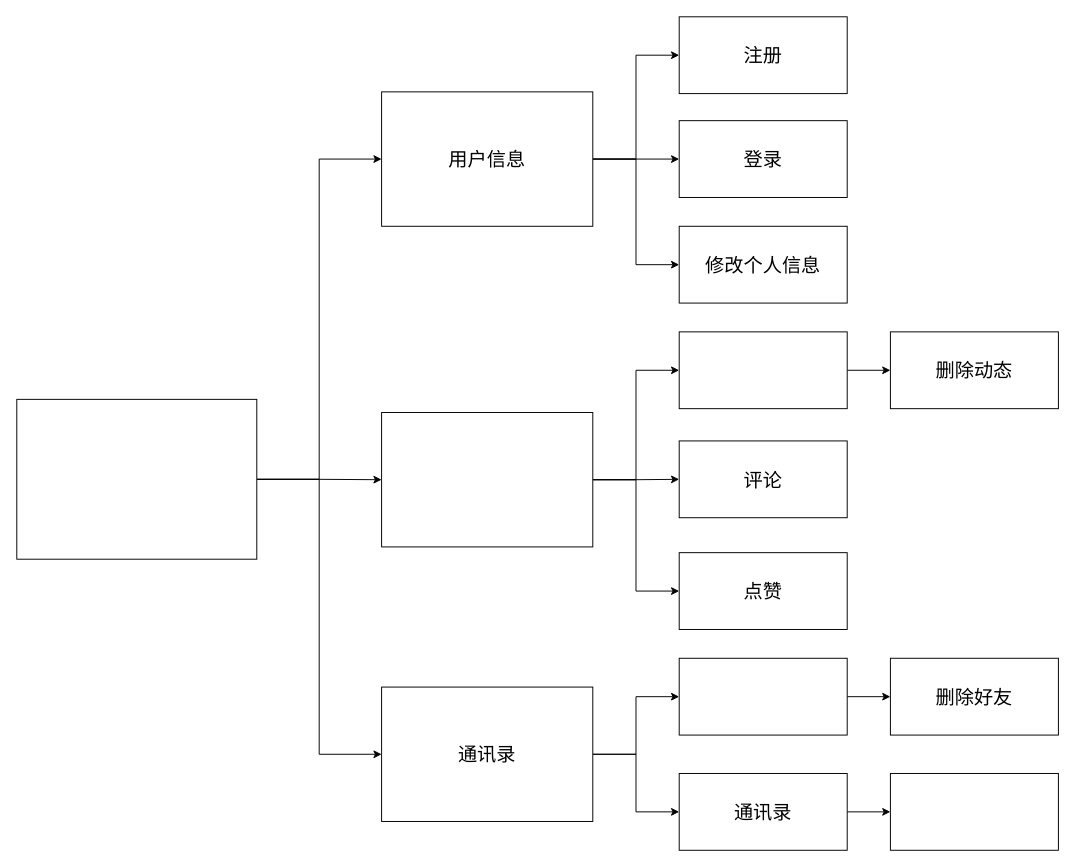
Image size: 1075x868. Some labels were removed from this diagram. The shapes that lost their labels are listed below. From the top down, each one's box as (x1, y1, x2, y2) in pixels, then its label:
(678, 331, 847, 409): 发布动态
(16, 398, 257, 559): 网络社交系统
(381, 412, 593, 547): 朋友圈
(678, 657, 847, 735): 添加好友
(889, 773, 1058, 850): 好友备注
